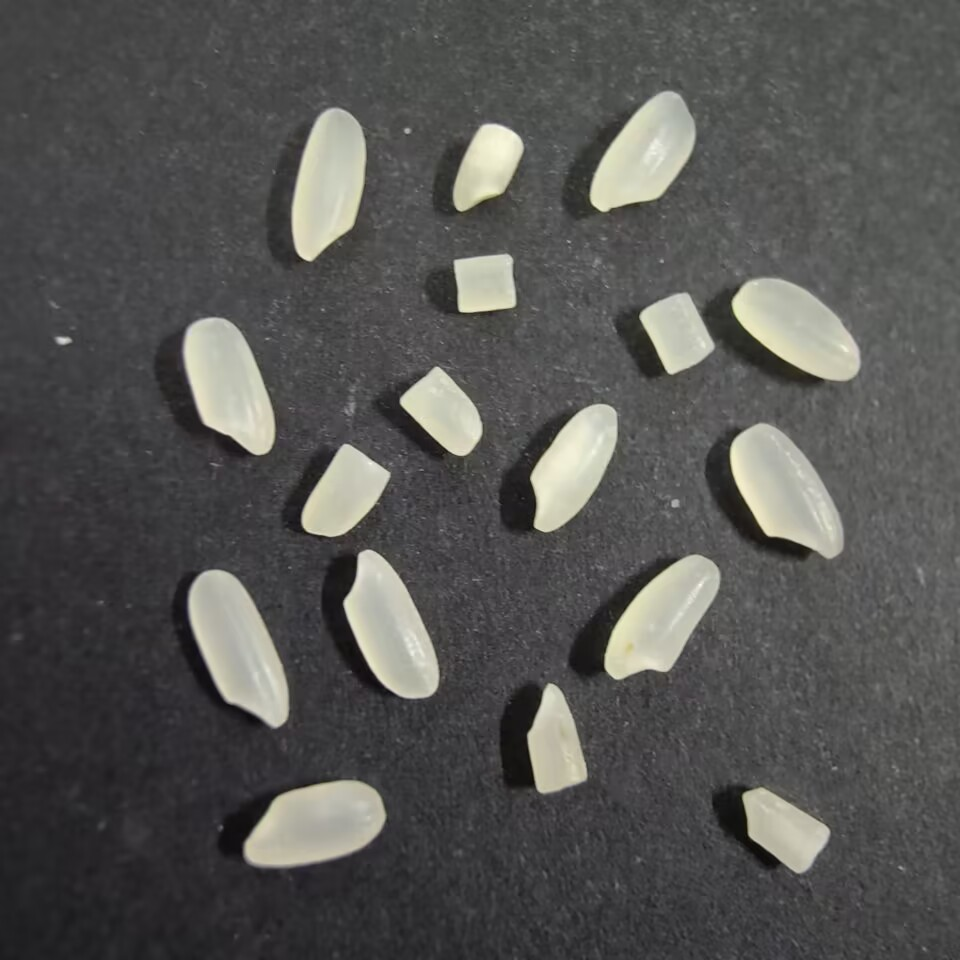broken: (736, 783, 836, 876), (297, 439, 390, 538), (396, 364, 488, 458), (520, 680, 591, 795), (633, 290, 715, 380), (448, 120, 523, 213), (449, 249, 522, 318)
rice: (186, 566, 289, 735), (728, 420, 848, 560), (598, 553, 723, 682), (341, 548, 443, 703), (178, 315, 280, 458), (586, 87, 699, 215), (731, 276, 865, 383), (236, 777, 389, 869), (287, 102, 370, 267), (525, 399, 623, 535)
